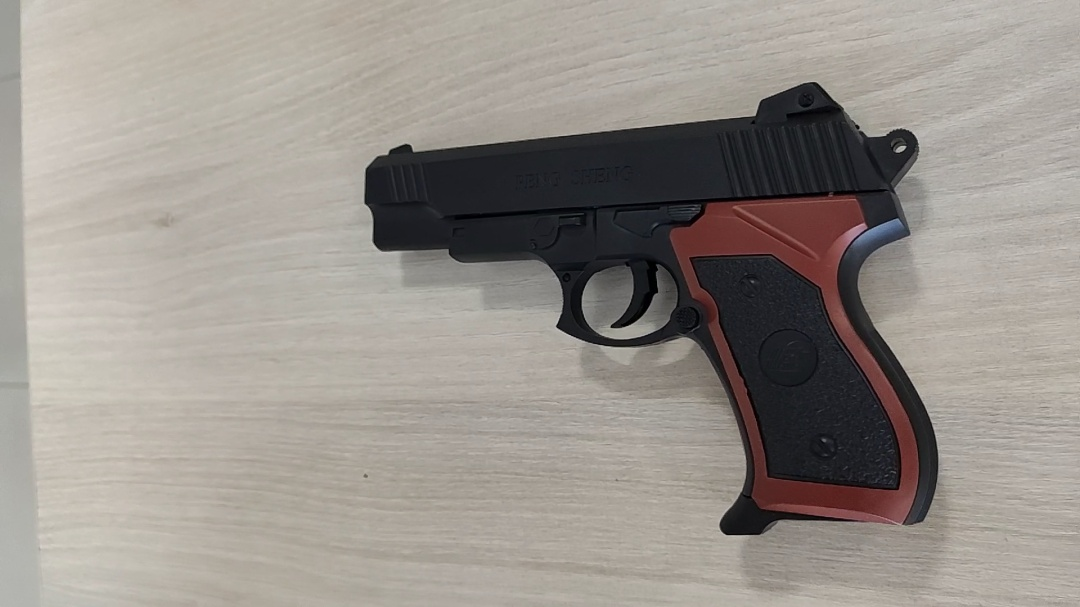gunw: (366, 79, 946, 540)
